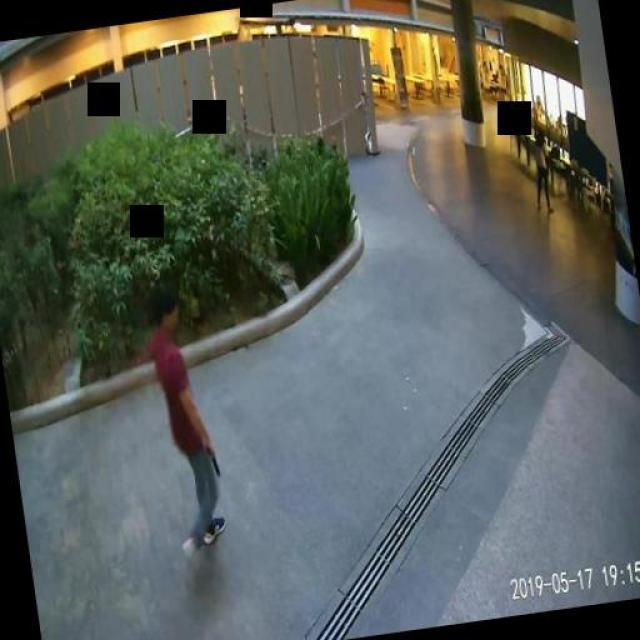gun: (202, 435, 218, 475)
